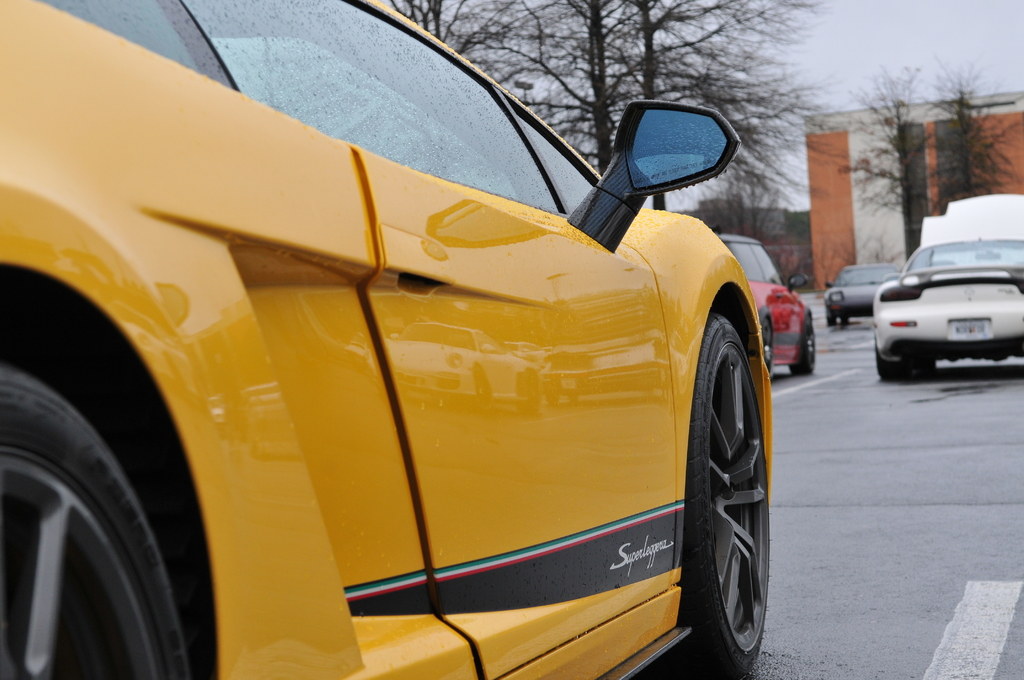Car: (0, 0, 770, 679), (870, 238, 1023, 376), (714, 229, 810, 366), (825, 261, 900, 325)
